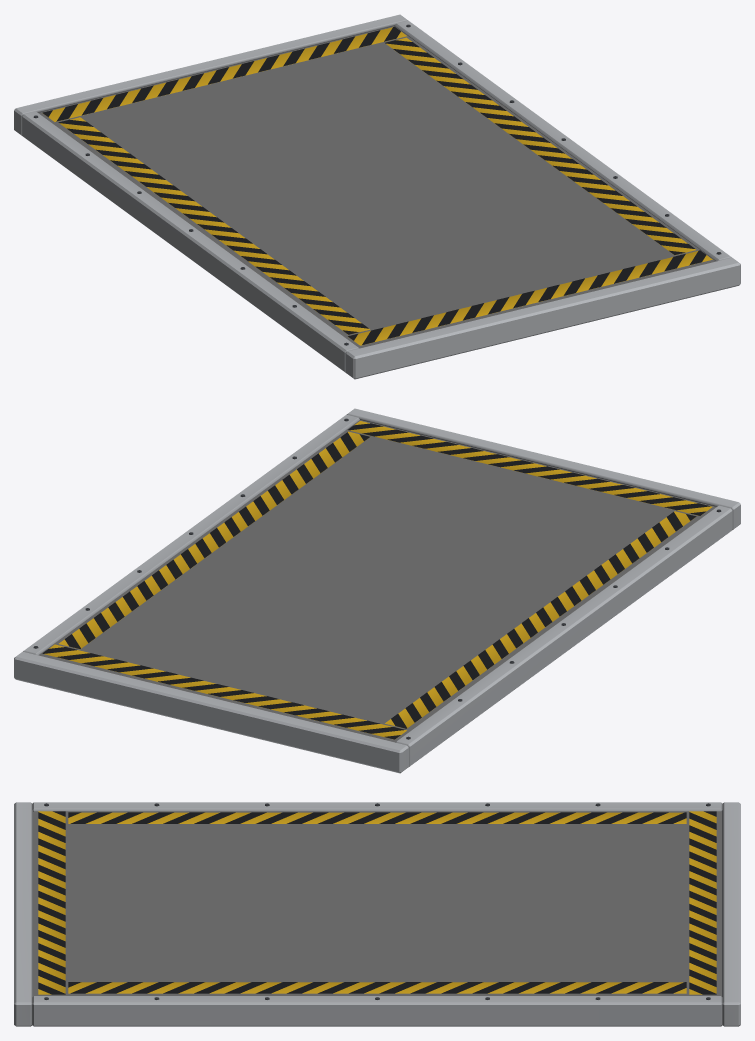
Rendered from estilo_plataforma_asiento.glb.
The picture shows the model from 3 angles, top to bottom: view 1: azimuth 30°, elevation 25°; view 2: azimuth 150°, elevation 25°; view 3: azimuth 270°, elevation 25°; orthographic projection. The views are drawn at different scales.
Parts seen in each view (by area): view 1: b880x50x1340; view 2: b880x50x1340; view 3: b880x50x1340.
Boxes of the visible parts, x1,y1,x2,y2 form: b880x50x1340: (14, 14, 740, 379); b880x50x1340: (14, 408, 740, 773); b880x50x1340: (14, 802, 740, 1026).
Bounding box in the file's own units: 0.88 × 0.052 × 1.34.
